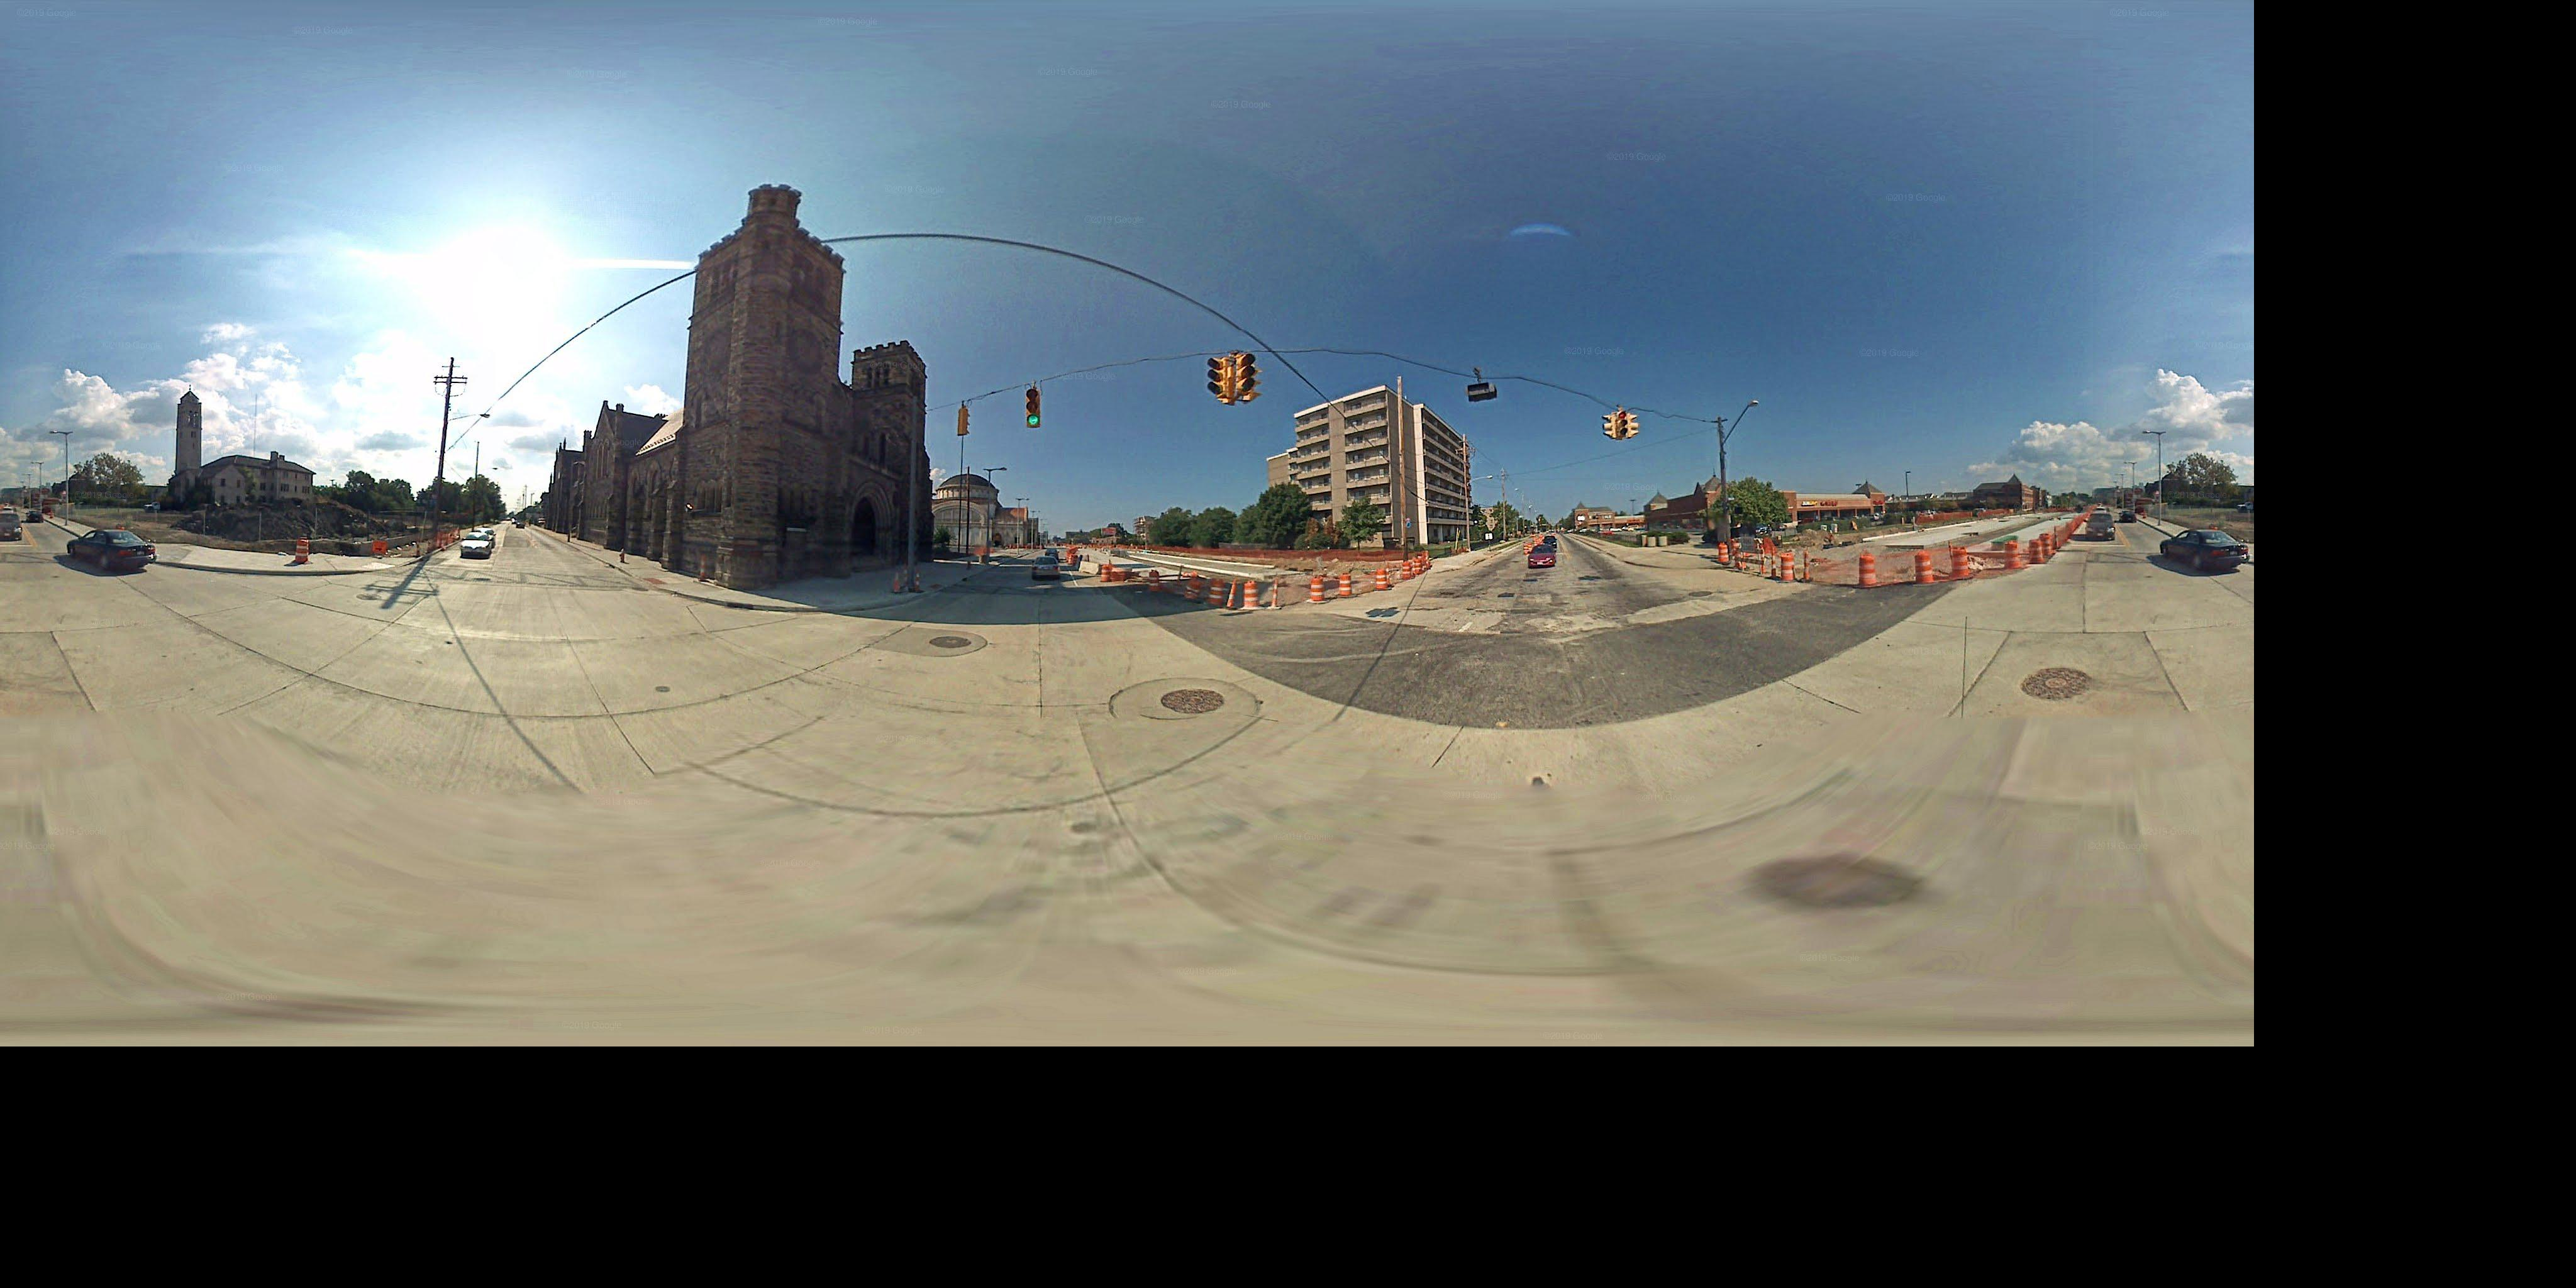Curb Ramp: (623, 568, 687, 595), (918, 570, 961, 598), (358, 555, 407, 572)
